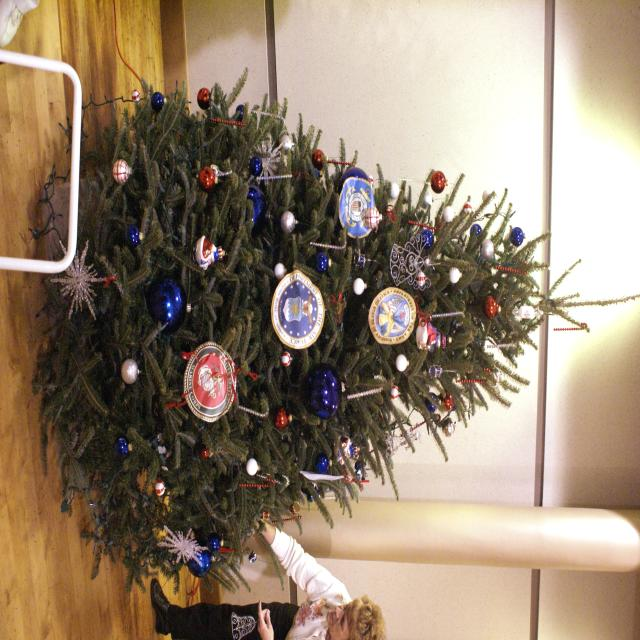Christmas-tree: (56, 83, 357, 640)
